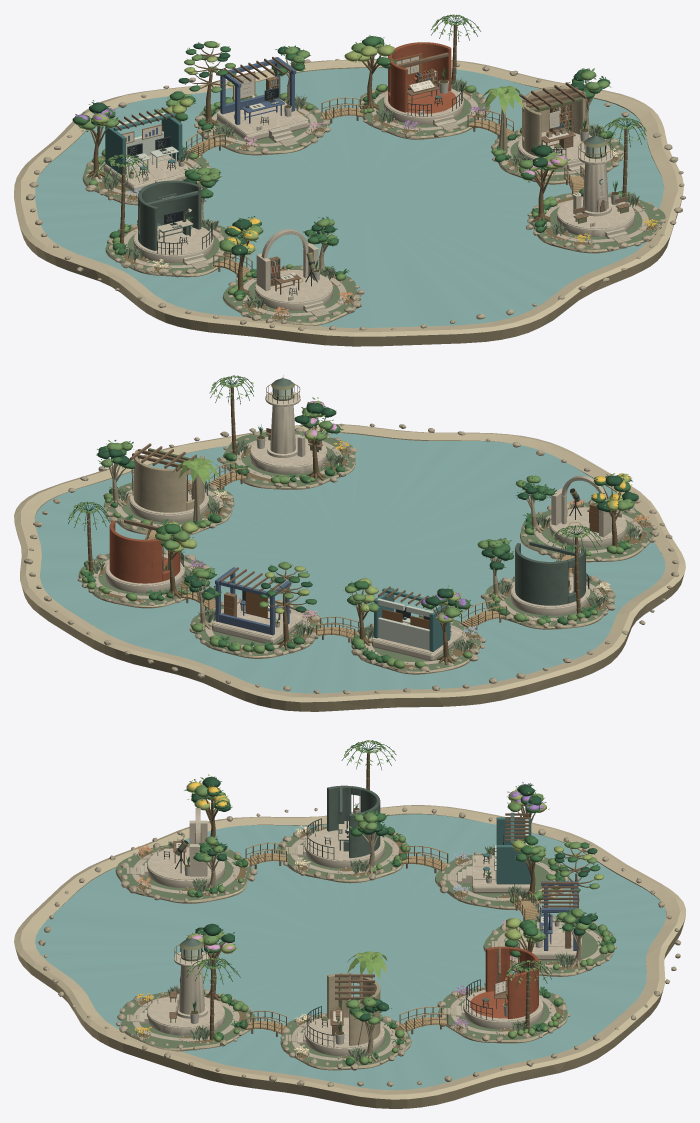
The model's file is archipelago-v8-low.glb.
The picture shows the model from 3 angles, top to bottom: view 1: azimuth 30°, elevation 25°; view 2: azimuth 150°, elevation 25°; view 3: azimuth 270°, elevation 25°; orthographic projection.
Visible parts, largest first — view 1: lake_water, lake_irregular_sand_bank, pavilion_gerar, pavilion_especificar, pavilion_validar, pavilion_comparar, pavilion_evoluir, pavilion_perspectivas, pavilion_pesquisa, island_perspectivas_foundation, island_pesquisa_foundation, lake_shore_pebbles (+35 smaller); view 2: lake_water, lake_irregular_sand_bank, pavilion_evoluir, pavilion_gerar, pavilion_comparar, pavilion_validar, pavilion_perspectivas, pavilion_especificar, pavilion_pesquisa, lake_shore_pebbles, island_perspectivas_foundation, island_pesquisa_foundation (+33 smaller); view 3: lake_water, lake_irregular_sand_bank, pavilion_especificar, pavilion_evoluir, pavilion_gerar, pavilion_perspectivas, pavilion_comparar, pavilion_pesquisa, pavilion_validar, island_pesquisa_foundation, island_perspectivas_foundation, lake_shore_pebbles (+33 smaller).
Boxes of the visible parts, <box> form: lake_water: <box>35,67,663,328</box>; lake_irregular_sand_bank: <box>14,59,683,346</box>; pavilion_gerar: <box>133,180,213,265</box>; pavilion_especificar: <box>383,42,463,126</box>; pavilion_validar: <box>216,57,308,142</box>; pavilion_comparar: <box>103,107,193,192</box>; pavilion_evoluir: <box>517,82,596,171</box>; pavilion_perspectivas: <box>557,133,634,238</box>; pavilion_pesquisa: <box>255,229,332,312</box>; island_perspectivas_foundation: <box>528,193,665,253</box>; island_pesquisa_foundation: <box>222,265,357,325</box>; lake_shore_pebbles: <box>26,59,685,330</box>; lake_water: <box>35,432,665,693</box>; lake_irregular_sand_bank: <box>14,424,685,711</box>; pavilion_evoluir: <box>129,443,208,522</box>; pavilion_gerar: <box>510,541,590,615</box>; pavilion_comparar: <box>372,586,462,660</box>; pavilion_validar: <box>212,567,303,645</box>; pavilion_perspectivas: <box>250,375,327,474</box>; pavilion_especificar: <box>105,519,184,593</box>; pavilion_pesquisa: <box>549,475,626,547</box>; lake_shore_pebbles: <box>24,423,679,694</box>; island_perspectivas_foundation: <box>222,431,355,489</box>; island_pesquisa_foundation: <box>520,502,653,562</box>; lake_water: <box>35,814,665,1089</box>; lake_irregular_sand_bank: <box>14,805,685,1108</box>; pavilion_especificar: <box>456,946,543,1029</box>; pavilion_evoluir: <box>297,973,384,1056</box>; pavilion_gerar: <box>297,785,384,868</box>; pavilion_perspectivas: <box>131,935,224,1035</box>; pavilion_comparar: <box>448,812,531,893</box>; pavilion_pesquisa: <box>130,808,224,887</box>; pavilion_validar: <box>497,881,581,960</box>; island_pesquisa_foundation: <box>115,844,251,903</box>; island_perspectivas_foundation: <box>121,991,256,1051</box>; lake_shore_pebbles: <box>38,807,680,1086</box>.
Bounding box in the file's own units: 43.95 × 7.05 × 42.37.
50 materials, 8 textured.
